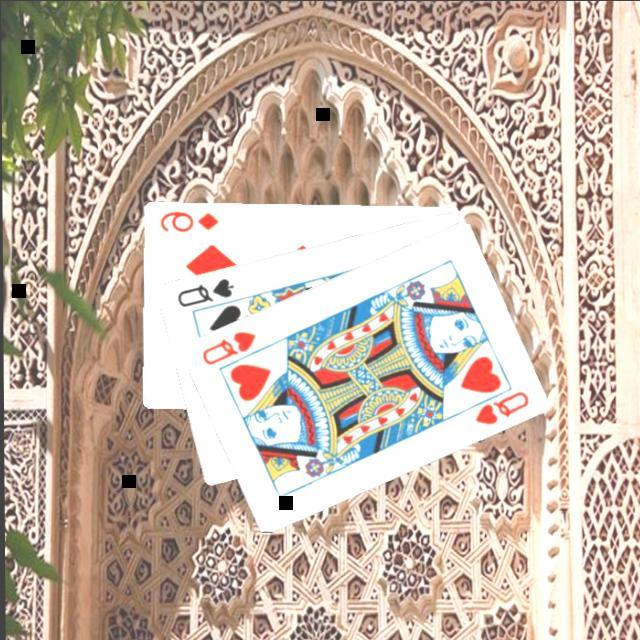6D: (157, 206, 222, 232)
QH: (459, 380, 532, 426), (197, 326, 259, 366)
QS: (174, 273, 237, 309)
